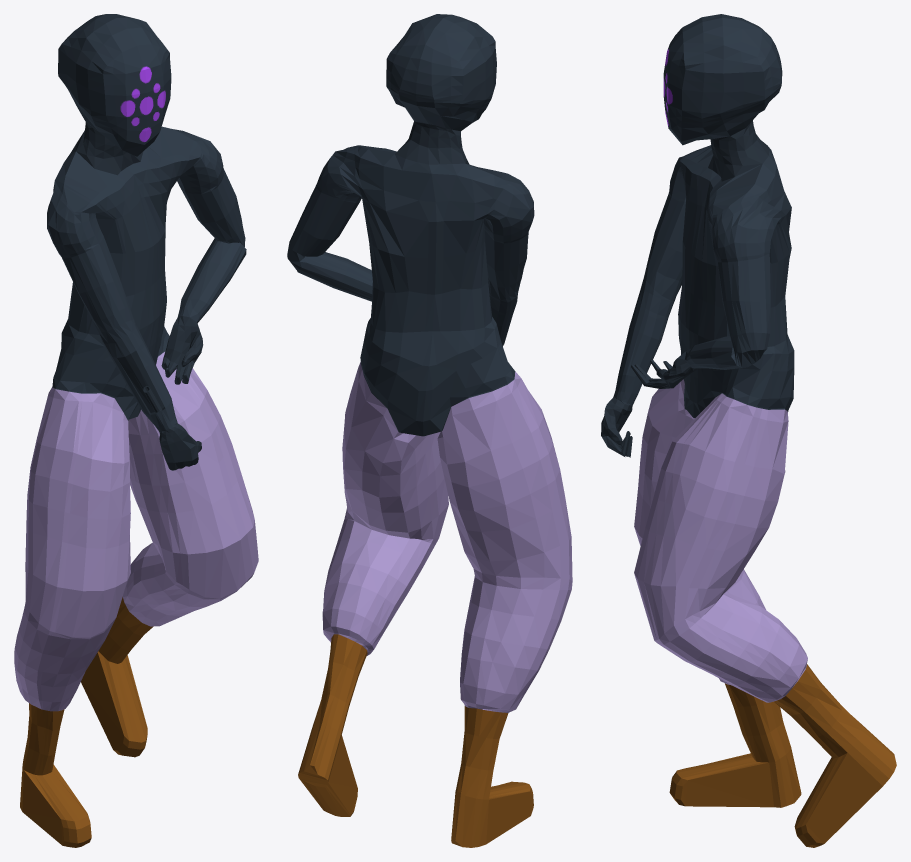
File: Oracle_Run_000020.obj
3 views of the same model, side by side, from view 1: azimuth 30°, elevation 25°; view 2: azimuth 150°, elevation 25°; view 3: azimuth 270°, elevation 25° (orthographic). The views are drawn at different scales.
Parts seen in each view (by area): view 1: Cube; view 2: Cube; view 3: Cube.
Part boxes in pixels (<box>): Cube: <box>14,14,258,847</box>; Cube: <box>287,14,572,847</box>; Cube: <box>601,14,896,847</box>.
Bounding box in the file's own units: 1.24 × 3.83 × 1.26.
